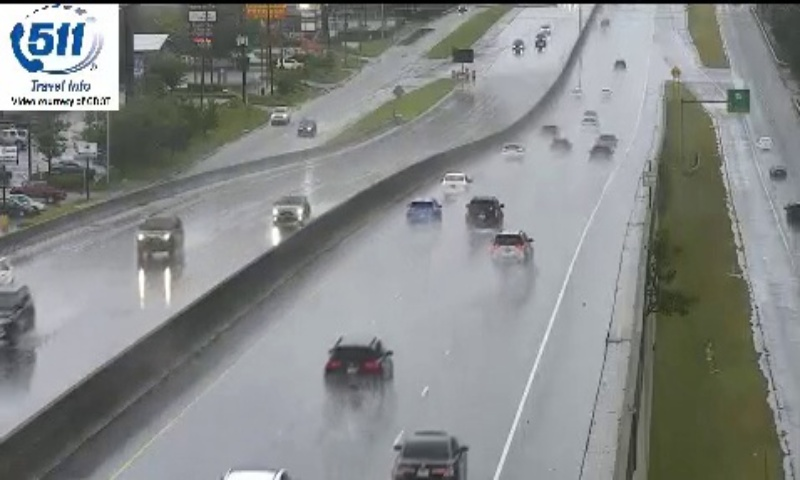car: (393, 430, 468, 480), (324, 337, 391, 392), (492, 230, 532, 264), (465, 196, 502, 230), (405, 198, 441, 226), (438, 171, 468, 200)
